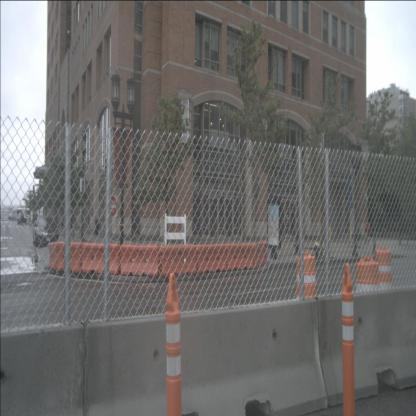cone: (165, 272, 183, 416), (340, 262, 356, 416), (82, 241, 121, 276), (121, 243, 160, 277), (159, 243, 197, 277), (295, 251, 317, 299), (197, 242, 228, 275), (56, 240, 81, 275), (226, 242, 253, 271), (376, 245, 392, 286), (356, 254, 376, 286), (253, 241, 269, 268), (46, 242, 57, 272)
